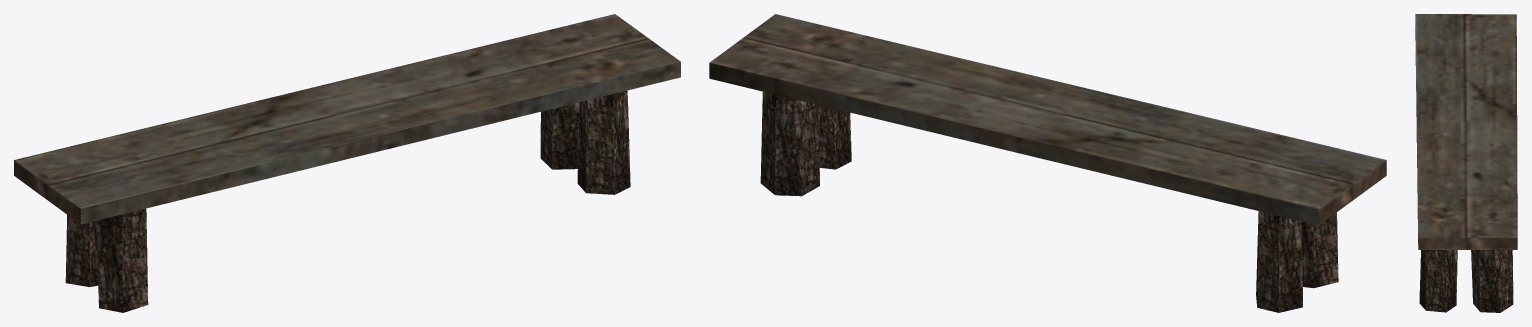
Rendered from d_sg_shouyou_yizi01_qt.FBX.
3 renders of one model, left to right at view 1: azimuth 30°, elevation 25°; view 2: azimuth 150°, elevation 25°; view 3: azimuth 270°, elevation 25°, orthographic. The views are drawn at different scales.
Visible parts, largest first — view 1: d_sg_shouyou_zhuzi01_qt; view 2: d_sg_shouyou_zhuzi01_qt; view 3: d_sg_shouyou_zhuzi01_qt.
Boxes of the visible parts, box(x1,y1,x2,y2) form: d_sg_shouyou_zhuzi01_qt: box(14, 14, 680, 312); d_sg_shouyou_zhuzi01_qt: box(709, 14, 1386, 312); d_sg_shouyou_zhuzi01_qt: box(1415, 14, 1517, 312).
Bounding box in the file's own units: 3.19 × 0.6051 × 0.6198.
